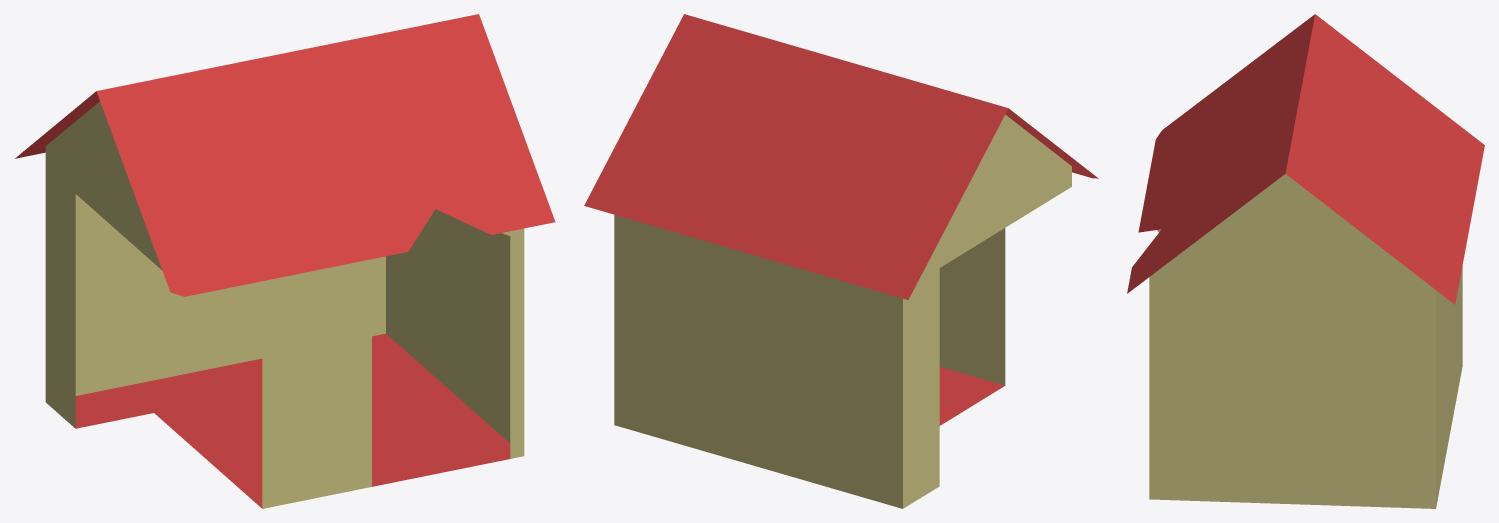
3 renders of one model, left to right at view 1: azimuth 30°, elevation 25°; view 2: azimuth 150°, elevation 25°; view 3: azimuth 270°, elevation 25°, orthographic. The views are drawn at different scales.
Size of the model in its own units: 14.49 by 12.86 by 13.44.
